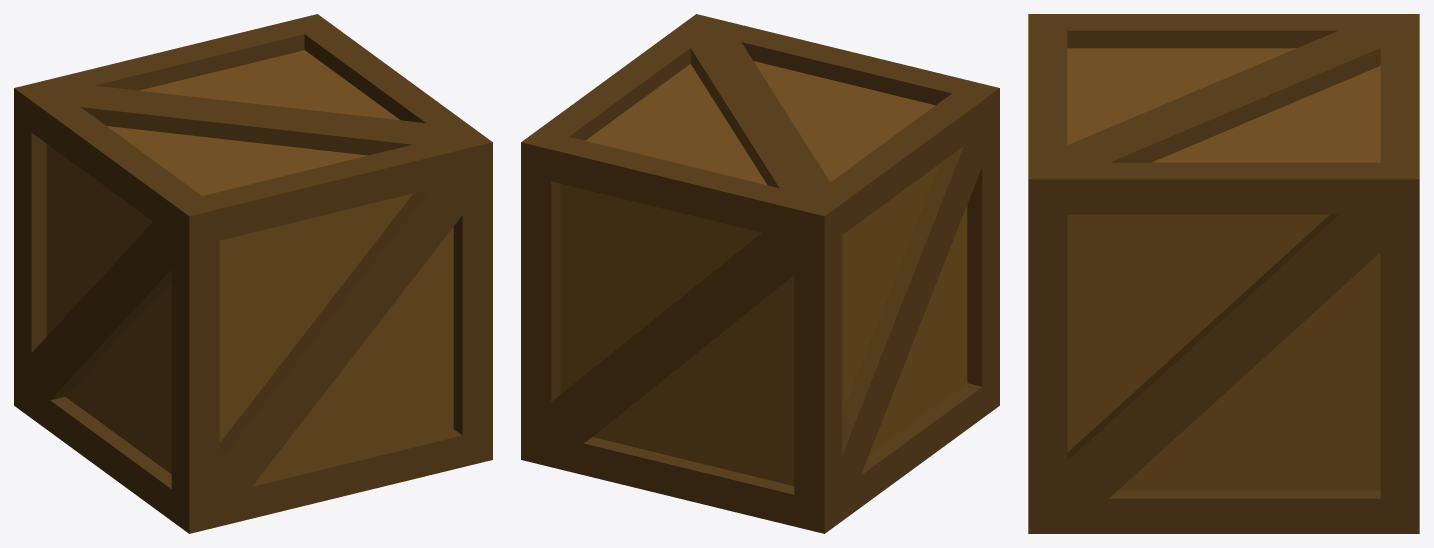
File: Crate.fbx
3 views of the same model, side by side, from view 1: azimuth 30°, elevation 25°; view 2: azimuth 150°, elevation 25°; view 3: azimuth 270°, elevation 25° (orthographic). The views are drawn at different scales.
Parts seen in each view (by area): view 1: Cube; view 2: Cube; view 3: Cube.
Part boxes in pixels (box(x1,y1,x2,y2)): Cube: box(14, 14, 492, 533); Cube: box(521, 14, 999, 533); Cube: box(1028, 14, 1419, 533).
Size of the model in its own units: 200 by 200 by 200.
